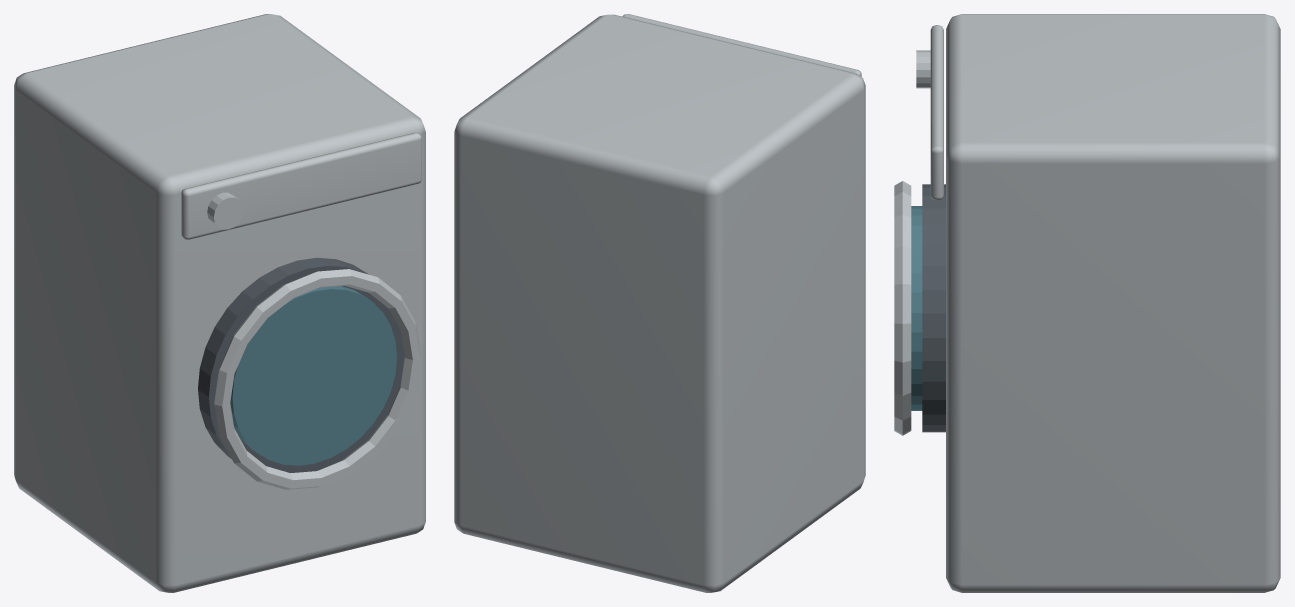
Rendered from washing_machine_silver.glb.
3 renders of one model, left to right at view 1: azimuth 30°, elevation 25°; view 2: azimuth 150°, elevation 25°; view 3: azimuth 270°, elevation 25°, orthographic. The views are drawn at different scales.
Parts seen in each view (by area): view 1: washer cabinet, porthole, controls, chrome door ring, drum bezel, dial; view 2: washer cabinet, controls; view 3: washer cabinet, drum bezel, chrome door ring, porthole, controls, dial.
Part boxes in pixels (bbox=[...]): washer cabinet: bbox=[14, 14, 425, 592]; porthole: bbox=[230, 286, 396, 465]; controls: bbox=[181, 133, 421, 239]; chrome door ring: bbox=[214, 269, 420, 489]; drum bezel: bbox=[198, 257, 404, 472]; dial: bbox=[207, 192, 243, 229]; washer cabinet: bbox=[454, 14, 865, 592]; controls: bbox=[622, 14, 861, 76]; washer cabinet: bbox=[946, 14, 1280, 592]; drum bezel: bbox=[922, 184, 945, 432]; chrome door ring: bbox=[894, 181, 911, 435]; porthole: bbox=[911, 206, 922, 410]; controls: bbox=[930, 25, 943, 200]; dial: bbox=[916, 50, 930, 88].
Size of the model in its own units: 0.62 by 0.92 by 0.7156.
